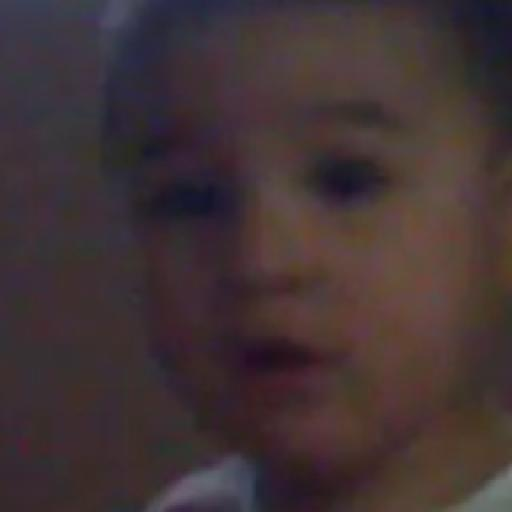Autism: (110, 6, 512, 512)
